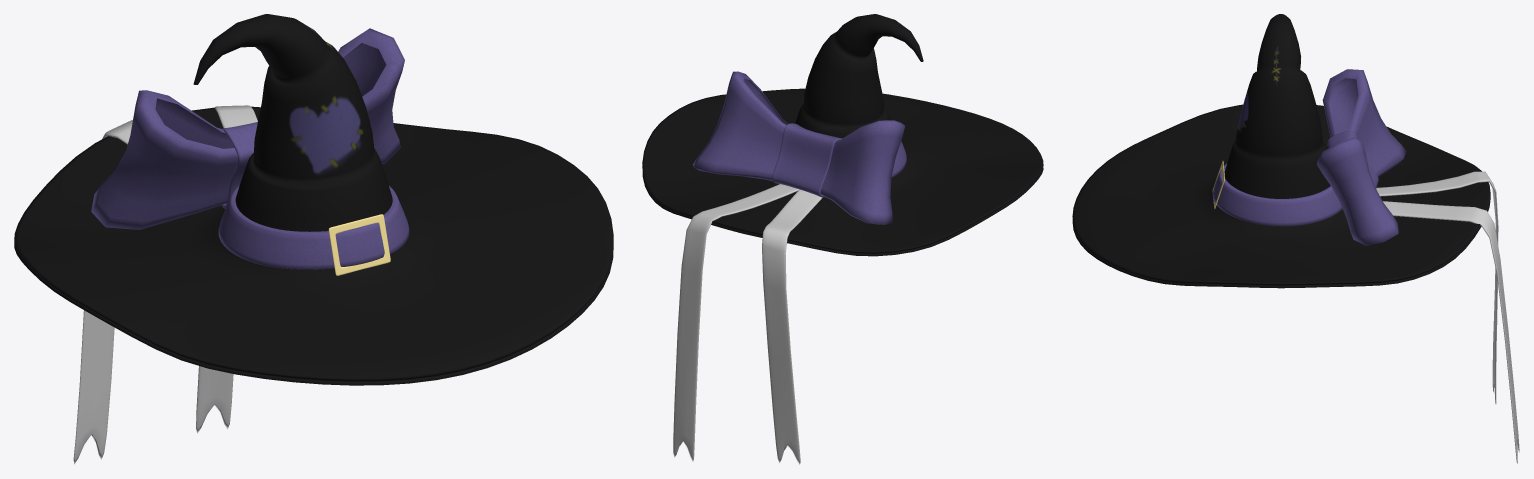
File: witch hat_R.fbx
3 views of the same model, side by side, from view 1: azimuth 30°, elevation 25°; view 2: azimuth 150°, elevation 25°; view 3: azimuth 270°, elevation 25° (orthographic). The views are drawn at different scales.
Parts seen in each view (by area): view 1: witch hat_L; view 2: witch hat_L; view 3: witch hat_L.
Boxes of the visible parts, <box> form: witch hat_L: <box>14,14,613,464</box>; witch hat_L: <box>642,14,1043,464</box>; witch hat_L: <box>1072,14,1519,463</box>.
Size of the model in its own units: 2.8 by 2.92 by 2.98.
